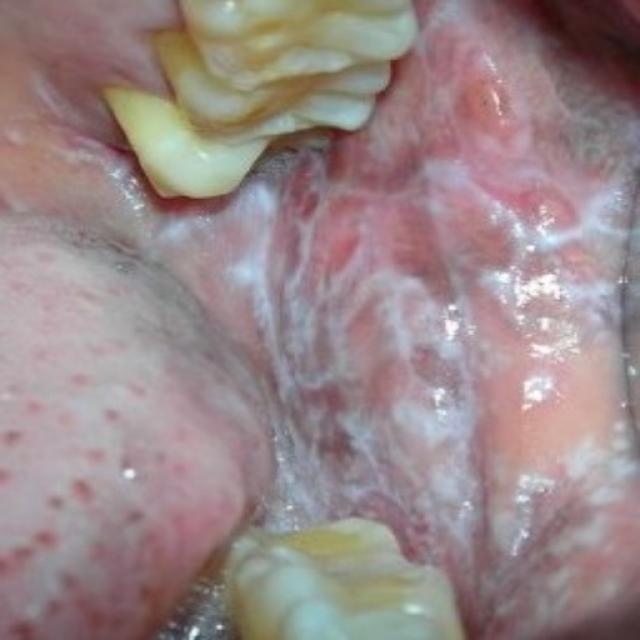leukoplakia-like-detection: (107, 5, 639, 639)
processing_area: (0, 0, 639, 639)
